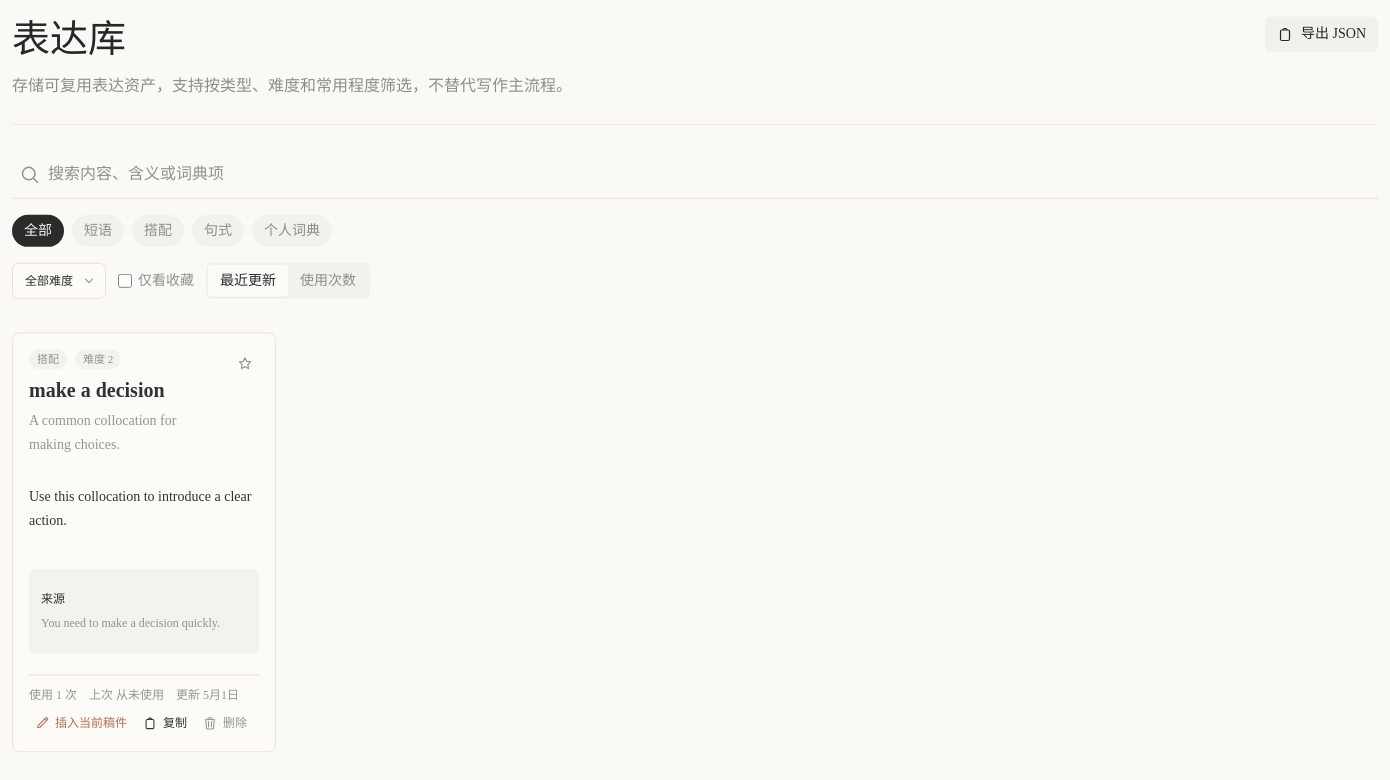
Test case: LearningLibraryPanel › shows action feedback when deleting an item
What coordinates should you click on to do the following:
click the button "删除"
I would click on:
 (225, 723)
Its box is x1=197 y1=711 x2=253 y2=735.
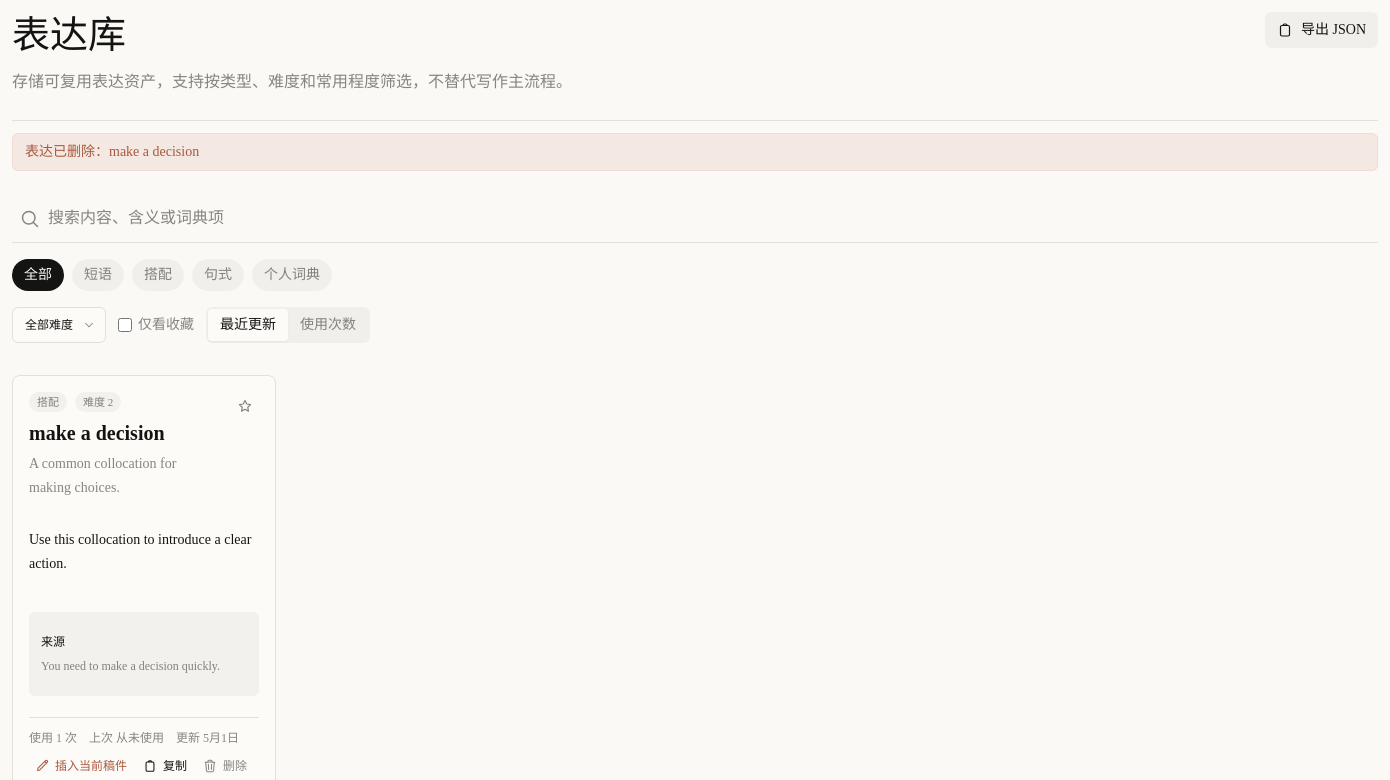
Expected: the message shows "make a decision", x1=25 y1=144 x2=199 y2=158
